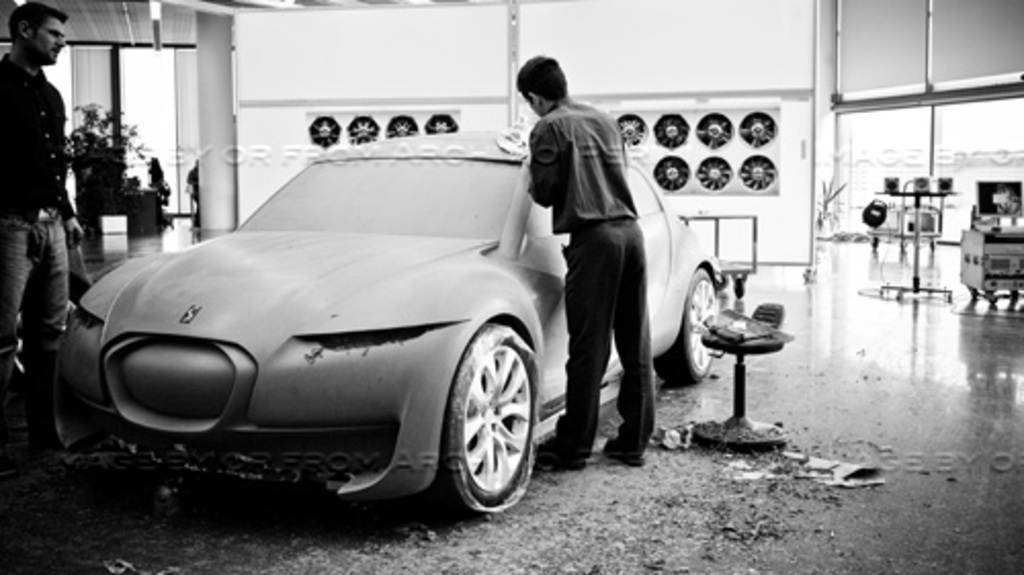Car: (51, 120, 727, 519)
